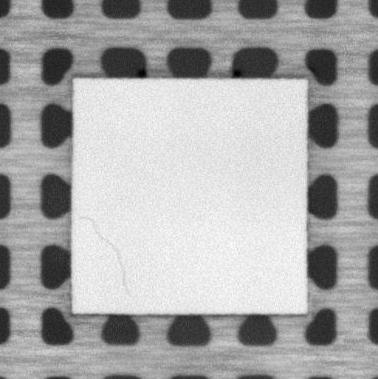DIE_CRACK: (81, 214, 130, 300)
